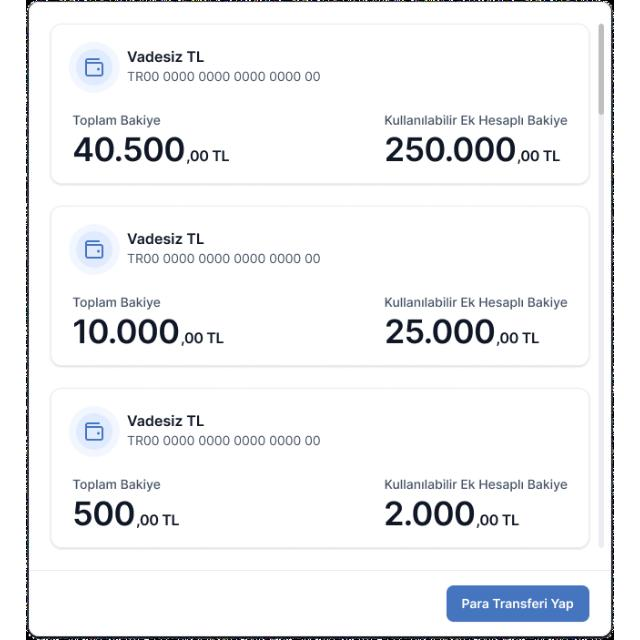QLabel: (378, 134, 516, 164), (69, 314, 179, 348), (380, 314, 494, 346), (70, 134, 186, 164), (127, 70, 326, 84), (127, 434, 325, 448), (378, 113, 572, 127), (379, 295, 571, 309), (457, 592, 578, 614), (382, 477, 570, 491), (380, 498, 474, 526), (126, 253, 324, 265), (72, 499, 136, 527), (70, 113, 160, 127), (70, 295, 160, 309), (71, 477, 161, 491), (125, 413, 207, 427), (125, 49, 208, 62), (123, 232, 205, 244), (476, 513, 522, 527), (190, 148, 230, 164), (182, 331, 226, 345), (519, 149, 561, 163), (138, 513, 180, 527), (497, 331, 541, 344)
VBtn: (446, 582, 590, 624)
VCard: (26, 1, 614, 639), (52, 21, 590, 187), (52, 388, 590, 548), (51, 207, 591, 365)
VDivider: (30, 567, 610, 575)
VIcon: (68, 223, 120, 275), (68, 42, 120, 94), (69, 406, 121, 458)
